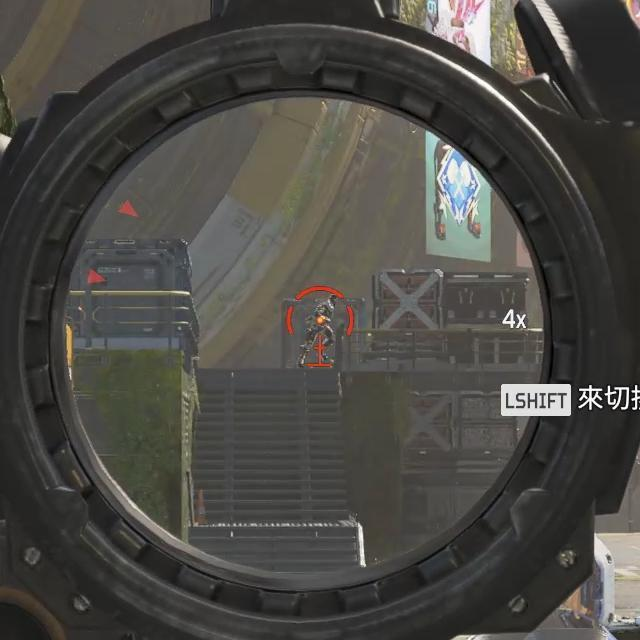avatar: (297, 291, 340, 366)
